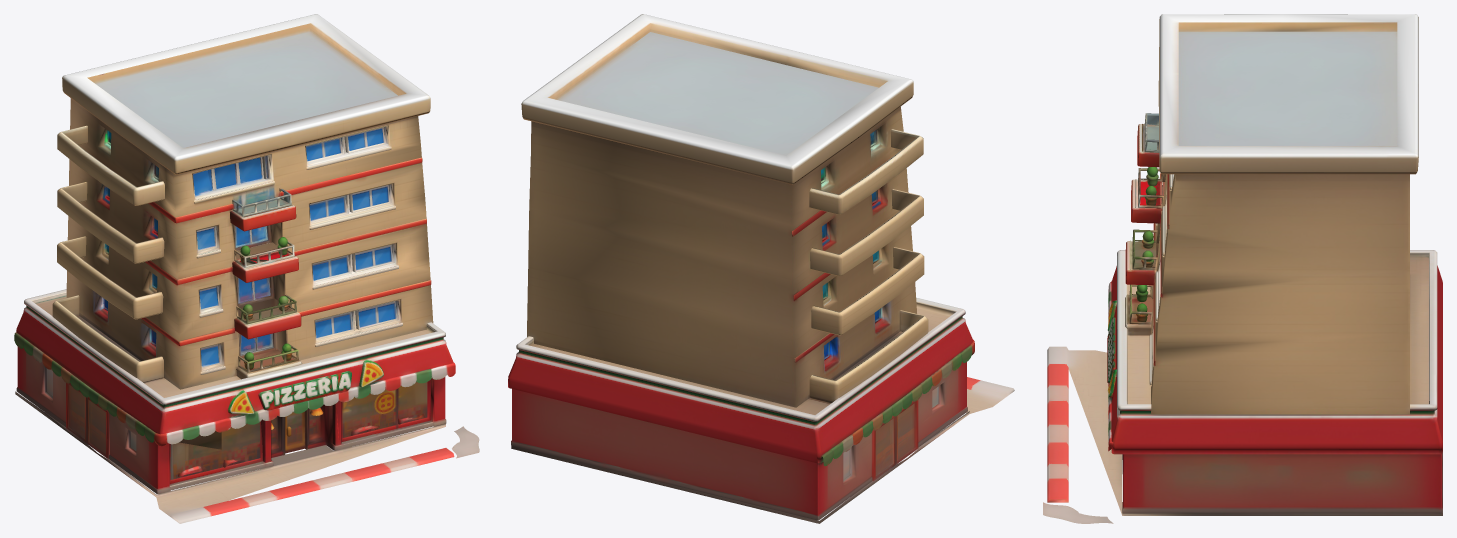
Rendered from pizzeria.glb.
3 views of the same model, side by side, from view 1: azimuth 30°, elevation 25°; view 2: azimuth 150°, elevation 25°; view 3: azimuth 270°, elevation 25° (orthographic). The views are drawn at different scales.
Parts seen in each view (by area): view 1: b2a8cfd9_3a12_43ee_8722_7b2be2fbf452; view 2: b2a8cfd9_3a12_43ee_8722_7b2be2fbf452; view 3: b2a8cfd9_3a12_43ee_8722_7b2be2fbf452.
Part boxes in pixels (<box>): b2a8cfd9_3a12_43ee_8722_7b2be2fbf452: <box>14,14,479,523</box>; b2a8cfd9_3a12_43ee_8722_7b2be2fbf452: <box>508,14,1014,523</box>; b2a8cfd9_3a12_43ee_8722_7b2be2fbf452: <box>1043,14,1442,523</box>.
Bounding box in the file's own units: 0.9995 × 0.9712 × 0.9722.
1 material, 1 textured.
